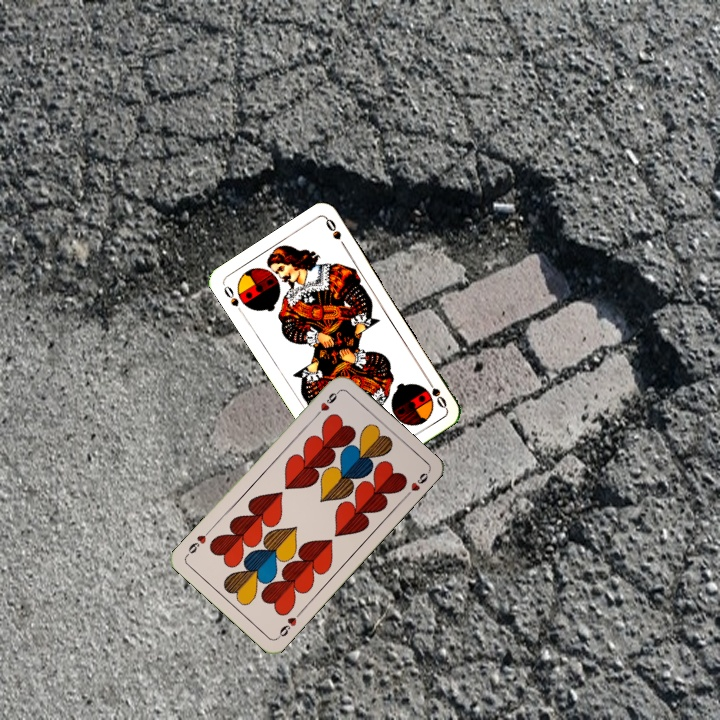H9: (273, 608, 304, 641), (310, 387, 341, 420)
SO: (422, 374, 449, 411), (219, 281, 246, 317)
